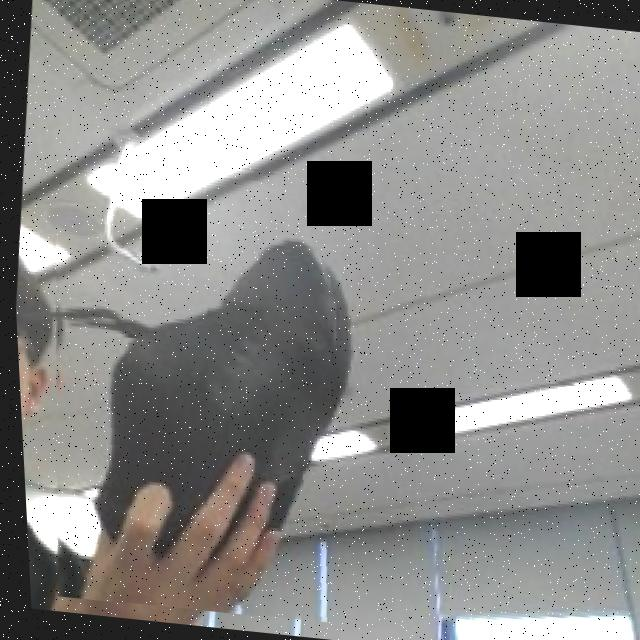shoe: (8, 160, 446, 633)
